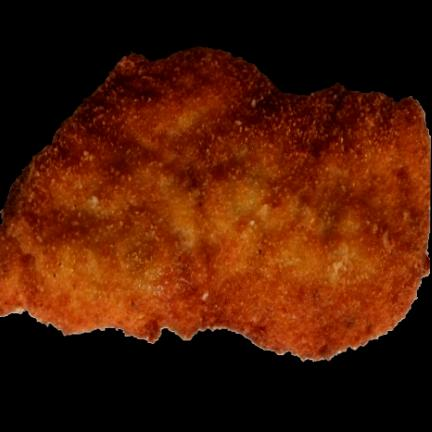chicken: (0, 48, 431, 360)
